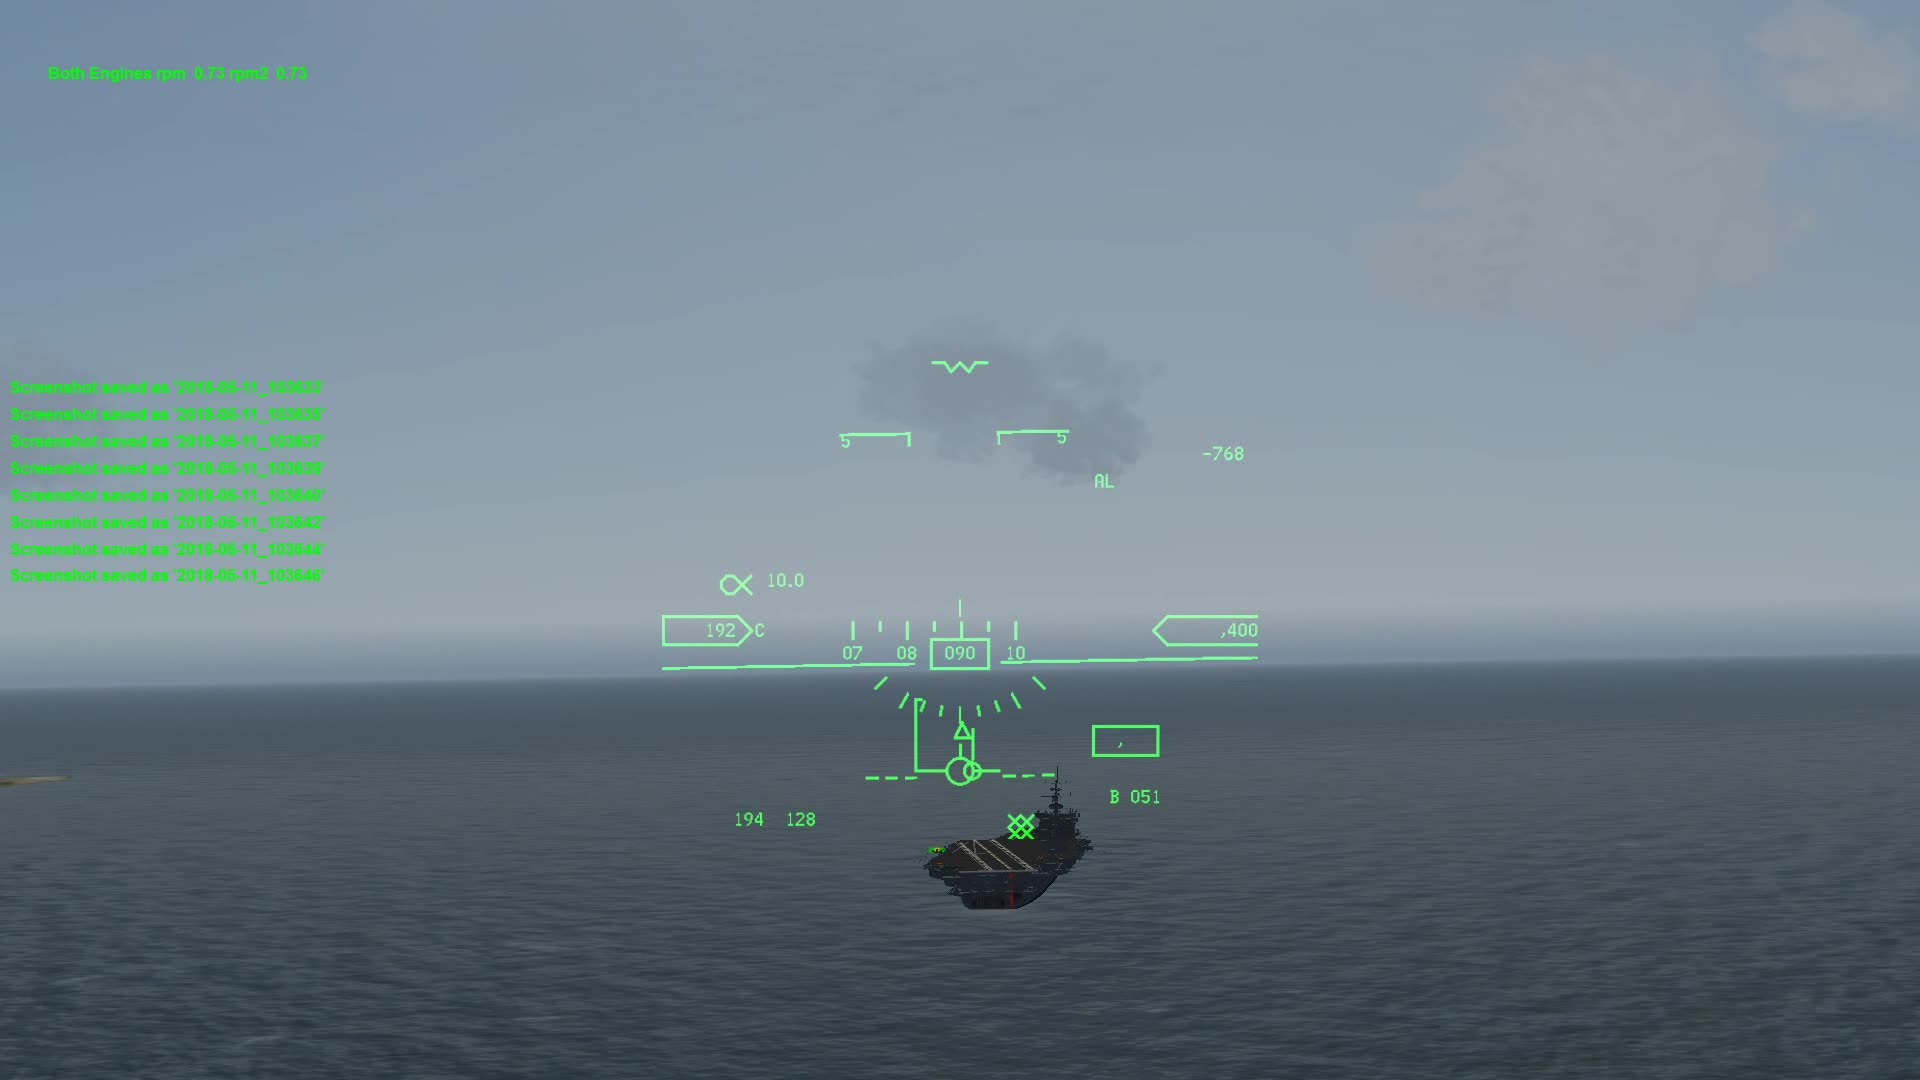speed vector: (928, 749, 1011, 794)
